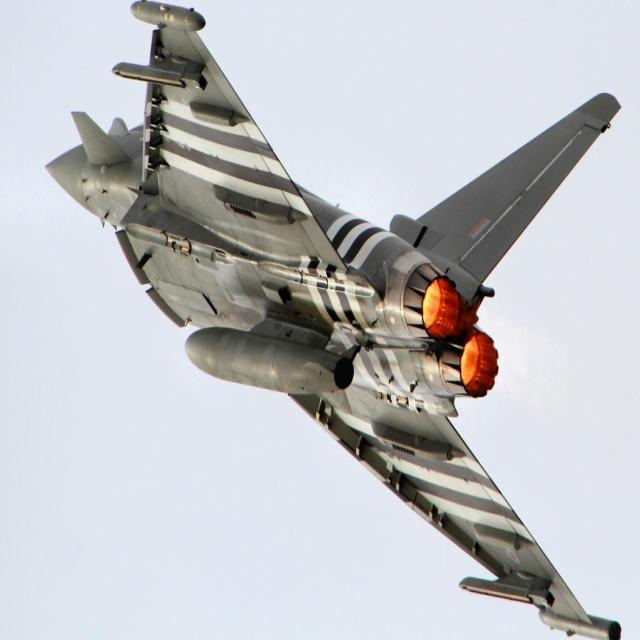MIL_Plane: (43, 1, 621, 640)
